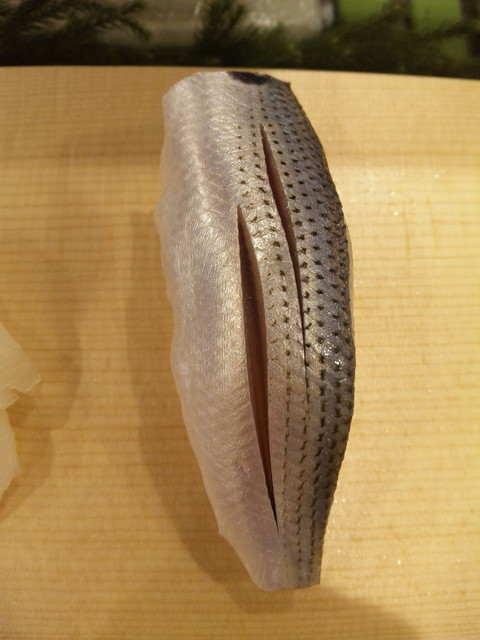spotted-shad: (156, 69, 363, 604)
